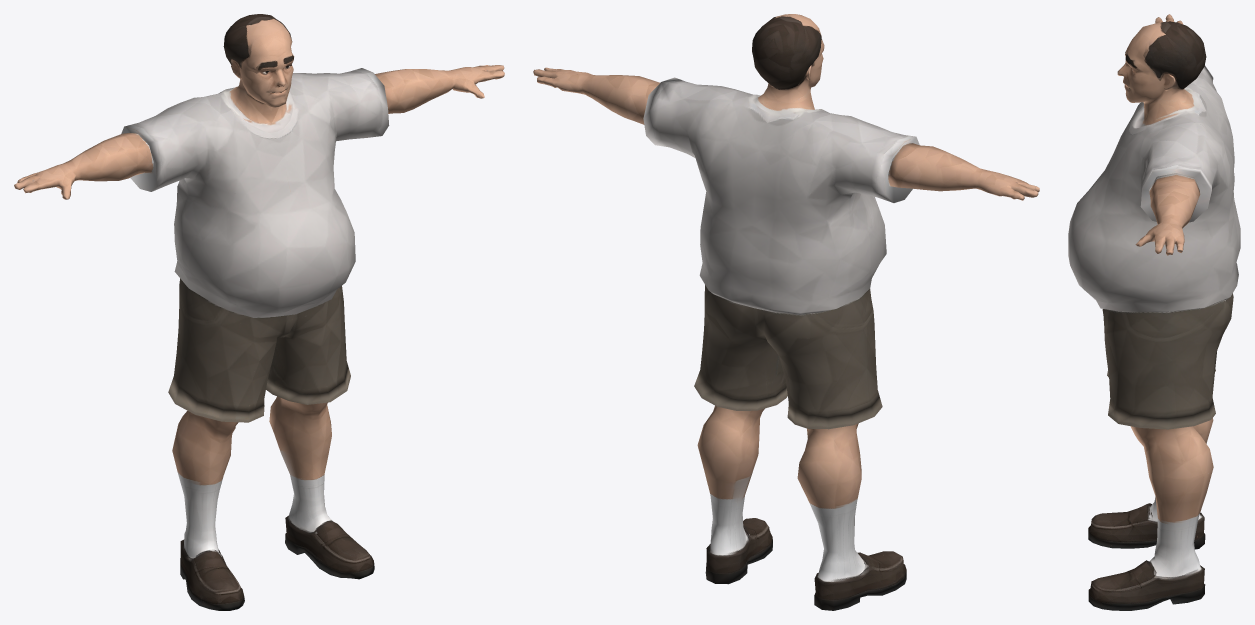
File: civilian_male_fat.glb
The picture shows the model from 3 angles, left to right: view 1: azimuth 30°, elevation 25°; view 2: azimuth 150°, elevation 25°; view 3: azimuth 270°, elevation 25°; orthographic projection. The views are drawn at different scales.
Bounding box in the file's own units: 0.9355 × 1 × 0.2871.
Materials: 1 (1 with a texture image).
